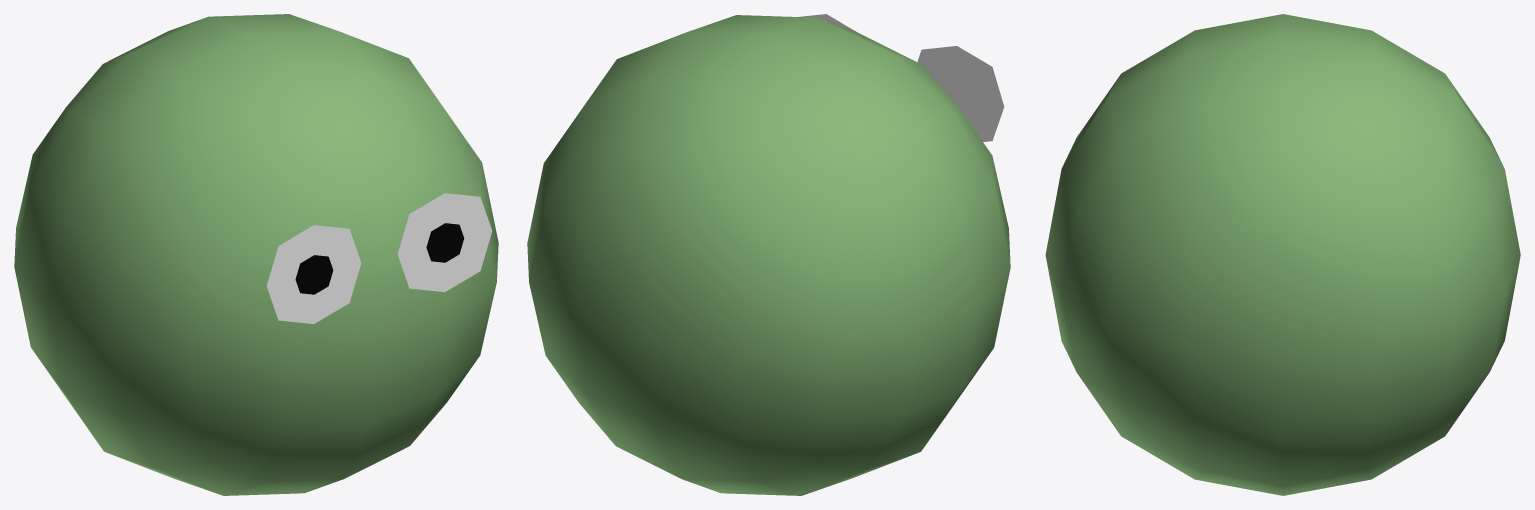
File: Arpie.fbx
3 views of the same model, side by side, from view 1: azimuth 30°, elevation 25°; view 2: azimuth 150°, elevation 25°; view 3: azimuth 270°, elevation 25° (orthographic).
Visible parts, largest first — view 1: Box, Plane, Plane.2, Plane.1.1, Plane.1; view 2: Box, Plane; view 3: Box.
Part boxes in pixels (x1=…): Box: x1=14, y1=14, x2=498, y2=495; Plane: x1=266, y1=225, x2=361, y2=324; Plane.2: x1=397, y1=193, x2=492, y2=292; Plane.1.1: x1=426, y1=223, x2=464, y2=262; Plane.1: x1=295, y1=255, x2=333, y2=294; Box: x1=527, y1=15, x2=1010, y2=495; Plane: x1=917, y1=46, x2=1004, y2=141; Box: x1=1045, y1=14, x2=1520, y2=495.
Bounding box in the file's own units: 87.85 × 87.85 × 89.02.
